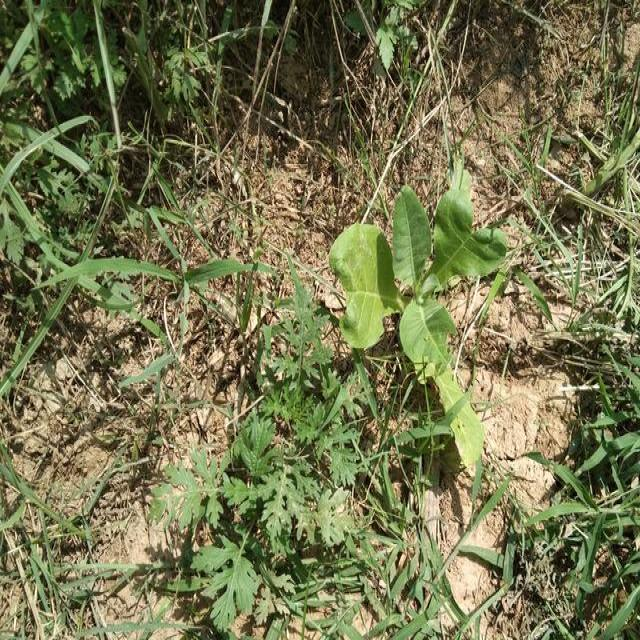crop: (330, 193, 538, 484)
